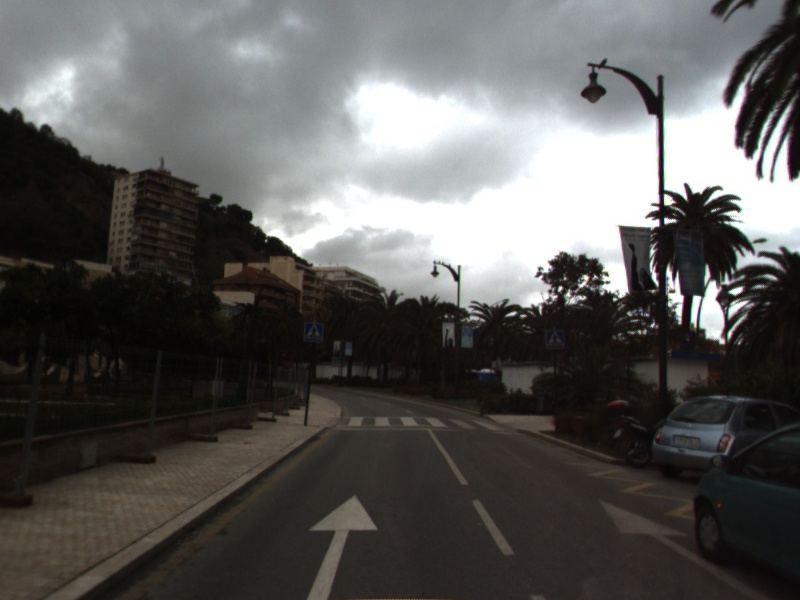STRAIGHT: (597, 497, 771, 600), (303, 492, 380, 600)
